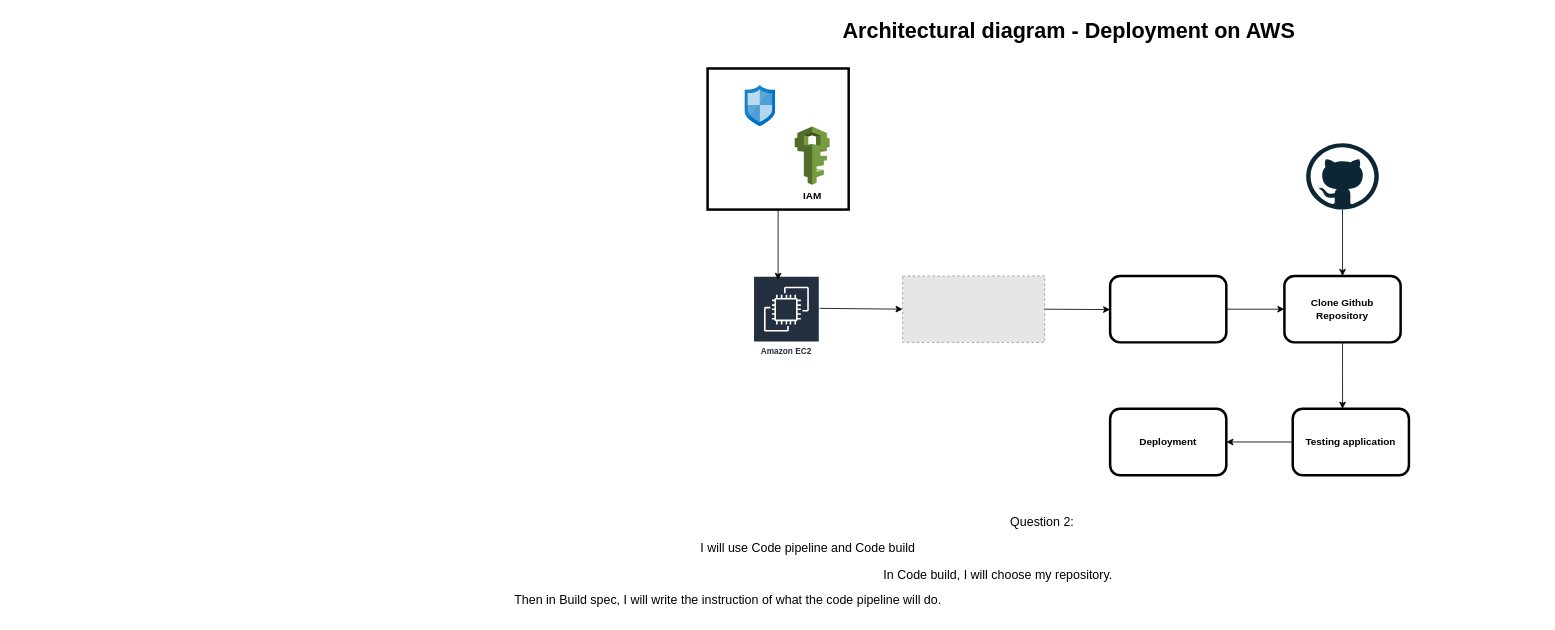
The diagram is 1555 pixels wide and 630 high, and some of its shapes have lost their labels. Grey dashed boxes stand in for pictures. Here are the shapes that lost their labels. From the top down, the box of each, then its label:
(745, 85, 775, 126): Security Group
(1108, 274, 1227, 343): Choose environment
